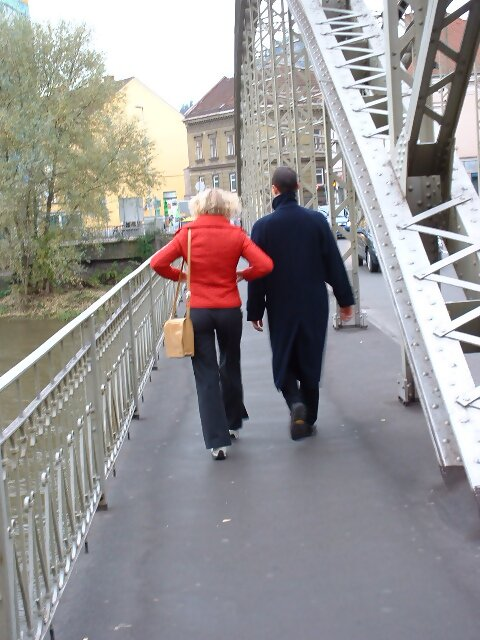person: (146, 183, 272, 458), (245, 164, 352, 428)
